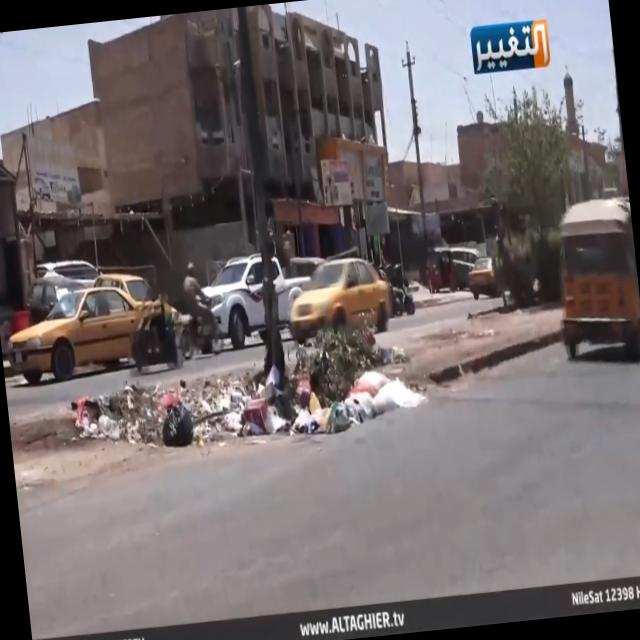high trash: (71, 324, 425, 447)
